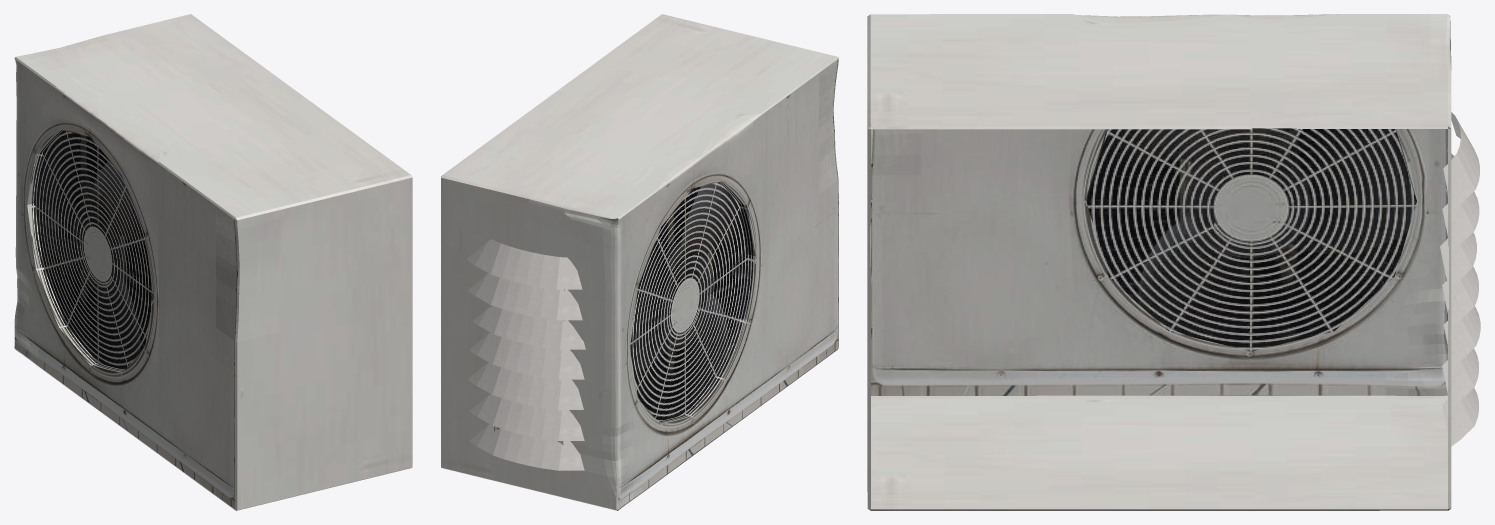
Rendered from AirConditioner.fbx.
The picture shows the model from 3 angles, left to right: view 1: azimuth 30°, elevation 25°; view 2: azimuth 150°, elevation 25°; view 3: azimuth 270°, elevation 25°; orthographic projection. The views are drawn at different scales.
Parts seen in each view (by area): view 1: flat.004; view 2: flat.004; view 3: flat.004.
Boxes of the visible parts, <box> form: flat.004: <box>14,14,412,510</box>; flat.004: <box>441,14,838,510</box>; flat.004: <box>867,14,1480,510</box>.
Size of the model in its own units: 101 by 159 by 229.
